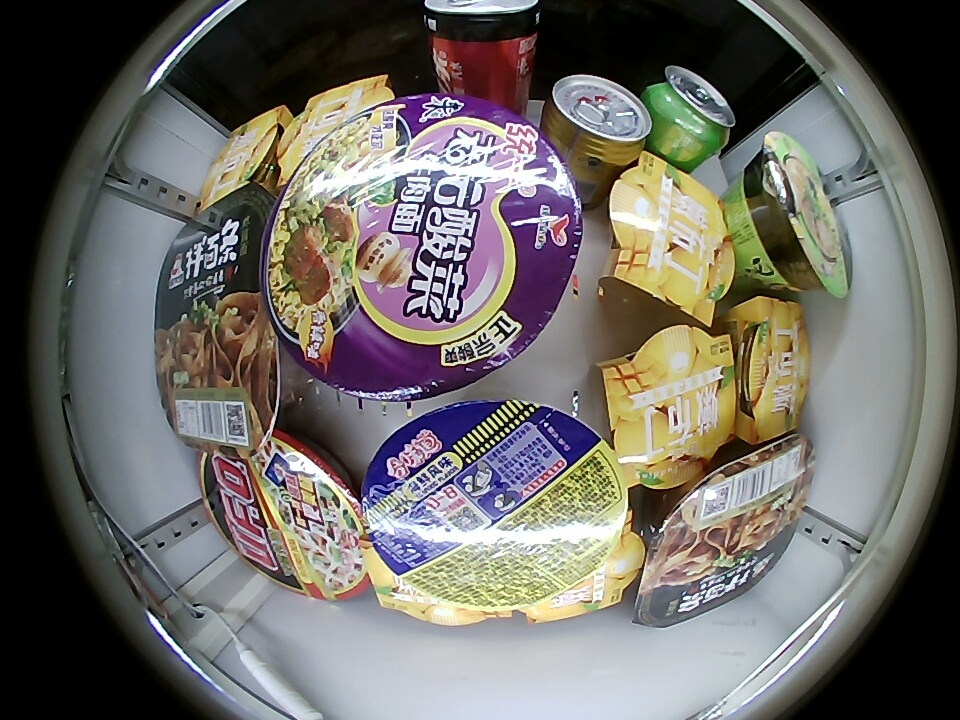buding: (606, 150, 734, 326), (602, 323, 736, 488), (277, 74, 394, 187), (529, 524, 646, 624), (732, 295, 811, 442), (364, 559, 512, 627), (199, 106, 294, 209)
gudasao: (632, 433, 816, 628), (154, 191, 282, 455)
heweidao: (361, 398, 627, 620)
hongniu2: (544, 75, 653, 165)
laotansuancai: (263, 91, 582, 401)
lingdukele: (422, 1, 542, 54)
quchenshixiangcao: (646, 65, 735, 160)
tangdaren: (735, 131, 854, 298)
ufo2: (200, 434, 369, 603)
